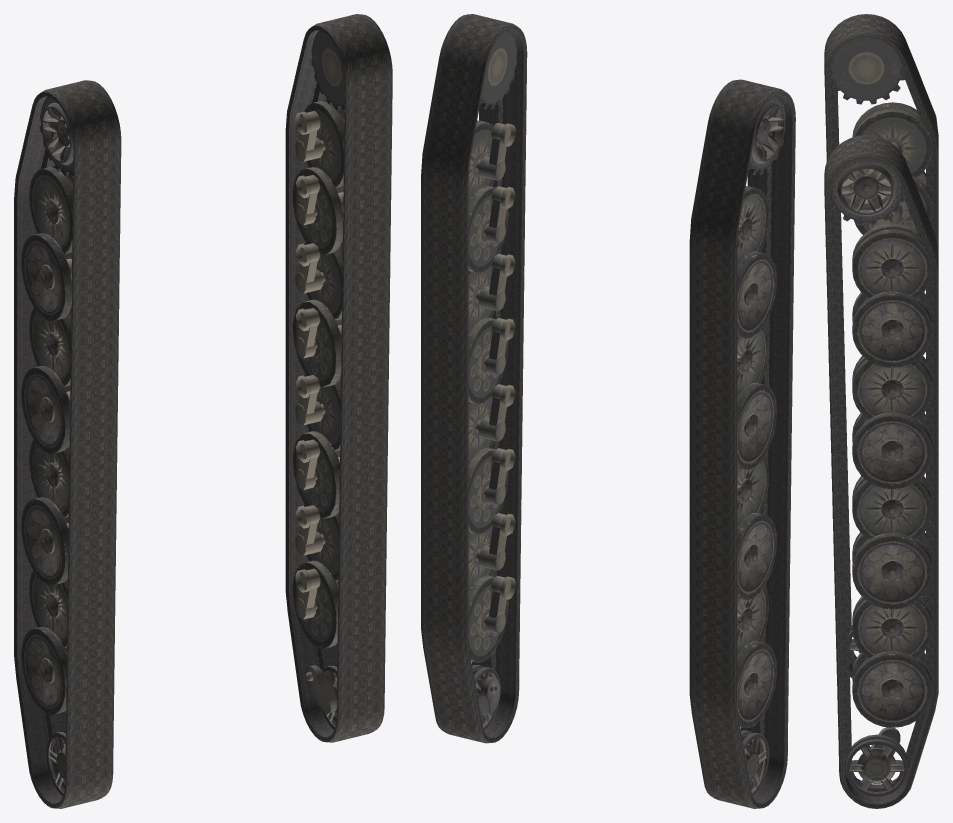
Rendered from Chassis.glb.
3 views of the same model, side by side, from view 1: azimuth 30°, elevation 25°; view 2: azimuth 150°, elevation 25°; view 3: azimuth 270°, elevation 25° (orthographic). The views are drawn at different scales.
Parts seen in each view (by area): view 1: set_3_group_0, set_1_group_0, set_5_group_0, set_4_group_0, set_2_group_0, set_0_group_0; view 2: set_3_group_0, set_1_group_0, set_5_group_0, set_4_group_0, set_2_group_0, set_0_group_0; view 3: set_5_group_0, set_1_group_0, set_4_group_0, set_3_group_0, set_0_group_0, set_2_group_0.
Part boxes in pixels (x1=…): set_3_group_0: x1=14, y1=80, x2=121, y2=808; set_1_group_0: x1=285, y1=14, x2=392, y2=742; set_5_group_0: x1=292, y1=30, x2=344, y2=729; set_4_group_0: x1=21, y1=97, x2=73, y2=796; set_2_group_0: x1=65, y1=555, x2=115, y2=784; set_0_group_0: x1=336, y1=489, x2=387, y2=718; set_3_group_0: x1=689, y1=79, x2=795, y2=808; set_1_group_0: x1=421, y1=14, x2=527, y2=743; set_5_group_0: x1=468, y1=30, x2=517, y2=730; set_4_group_0: x1=737, y1=96, x2=785, y2=796; set_2_group_0: x1=740, y1=535, x2=790, y2=757; set_0_group_0: x1=472, y1=470, x2=521, y2=691; set_5_group_0: x1=830, y1=159, x2=932, y2=797; set_1_group_0: x1=824, y1=135, x2=938, y2=808; set_4_group_0: x1=830, y1=38, x2=932, y2=665; set_3_group_0: x1=824, y1=14, x2=938, y2=678; set_0_group_0: x1=834, y1=565, x2=851, y2=776; set_2_group_0: x1=844, y1=444, x2=851, y2=643.
Bounding box in the file's own units: 2.91 × 6.28 × 0.9907.
6 materials, 6 textured.
